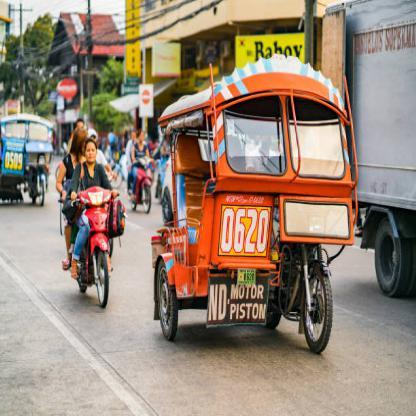Motorcycle: (58, 185, 124, 316)
